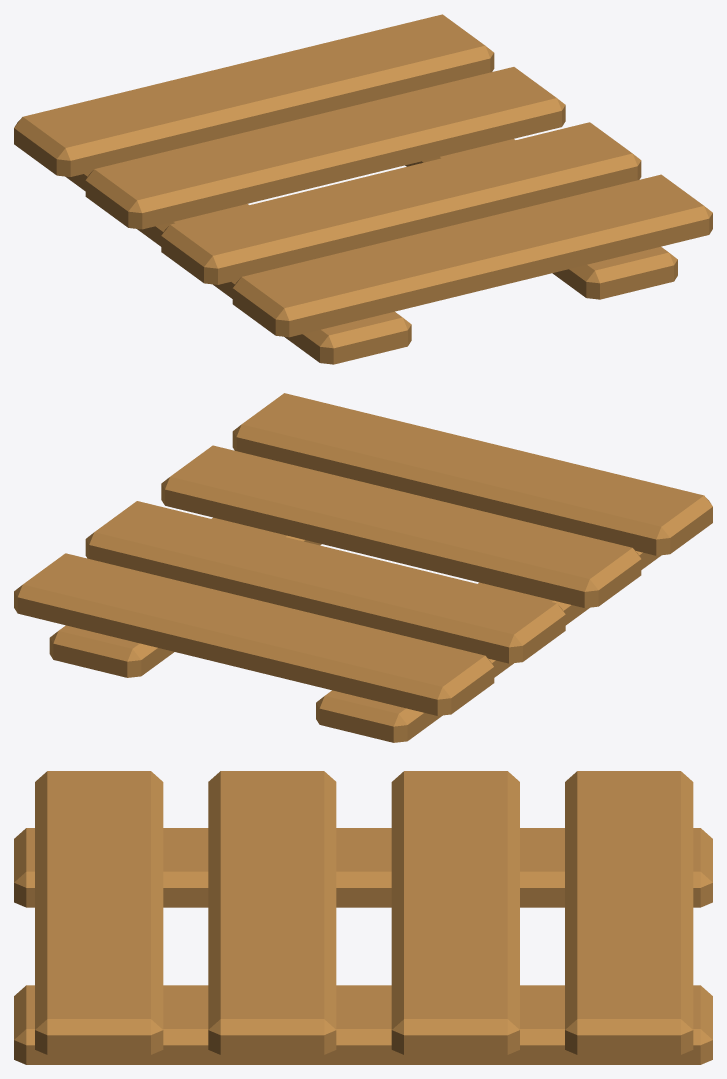
File: OB_Wood_Box_2.fbx
3 views of the same model, one above another, from view 1: azimuth 30°, elevation 25°; view 2: azimuth 150°, elevation 25°; view 3: azimuth 270°, elevation 25° (orthographic). The views are drawn at different scales.
Visible parts, largest first — view 1: OB_Wood_Box_2; view 2: OB_Wood_Box_2; view 3: OB_Wood_Box_2.
Boxes of the visible parts, x1,y1,x2,y2 form: OB_Wood_Box_2: [14, 14, 712, 364]; OB_Wood_Box_2: [14, 393, 712, 742]; OB_Wood_Box_2: [14, 771, 712, 1064].
Bounding box in the file's own units: 144 × 17.26 × 164.
